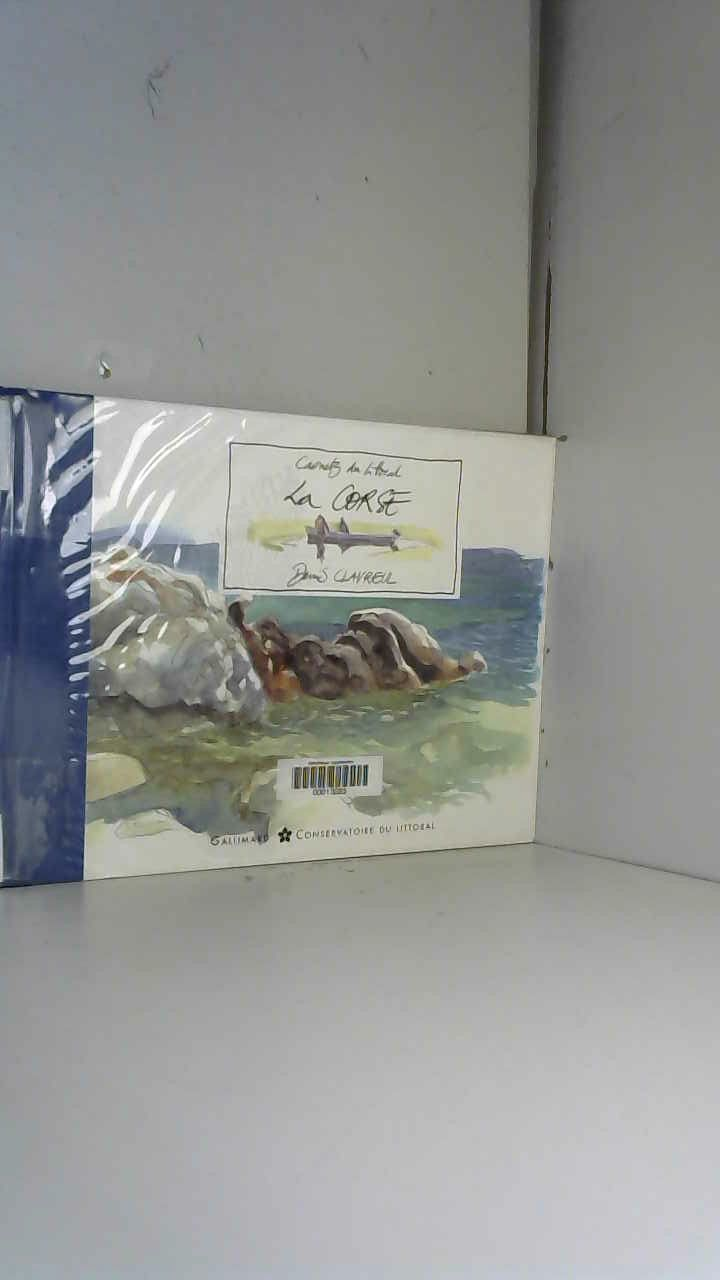book: (0, 362, 585, 907)
